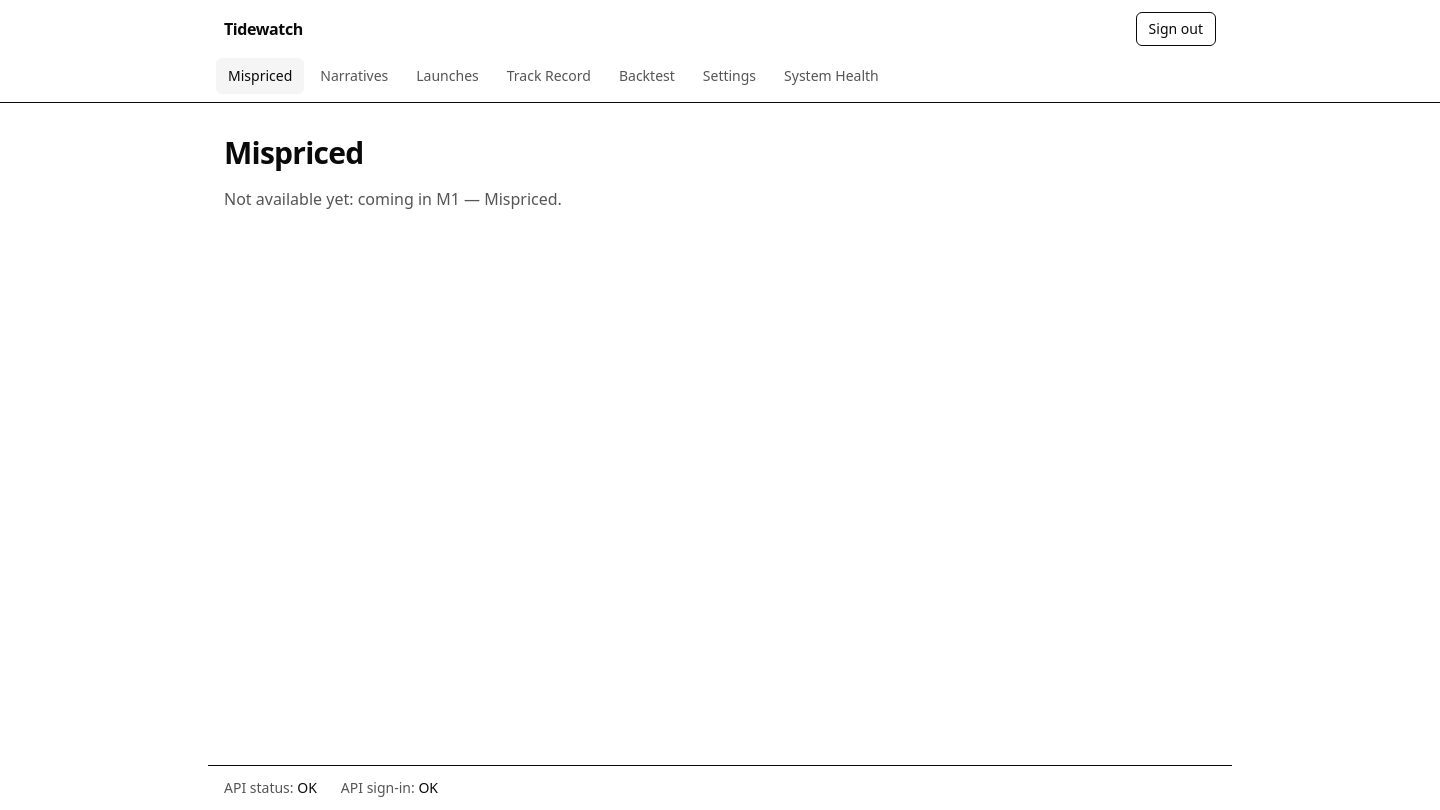
Test case: PER-11 dashboard shell › AC2 + AC3: "Launches" opens at /launches with its title (and "coming in" until built)
Click the link "Launches" at (448, 76), box left=416, top=66, right=479, bottom=85
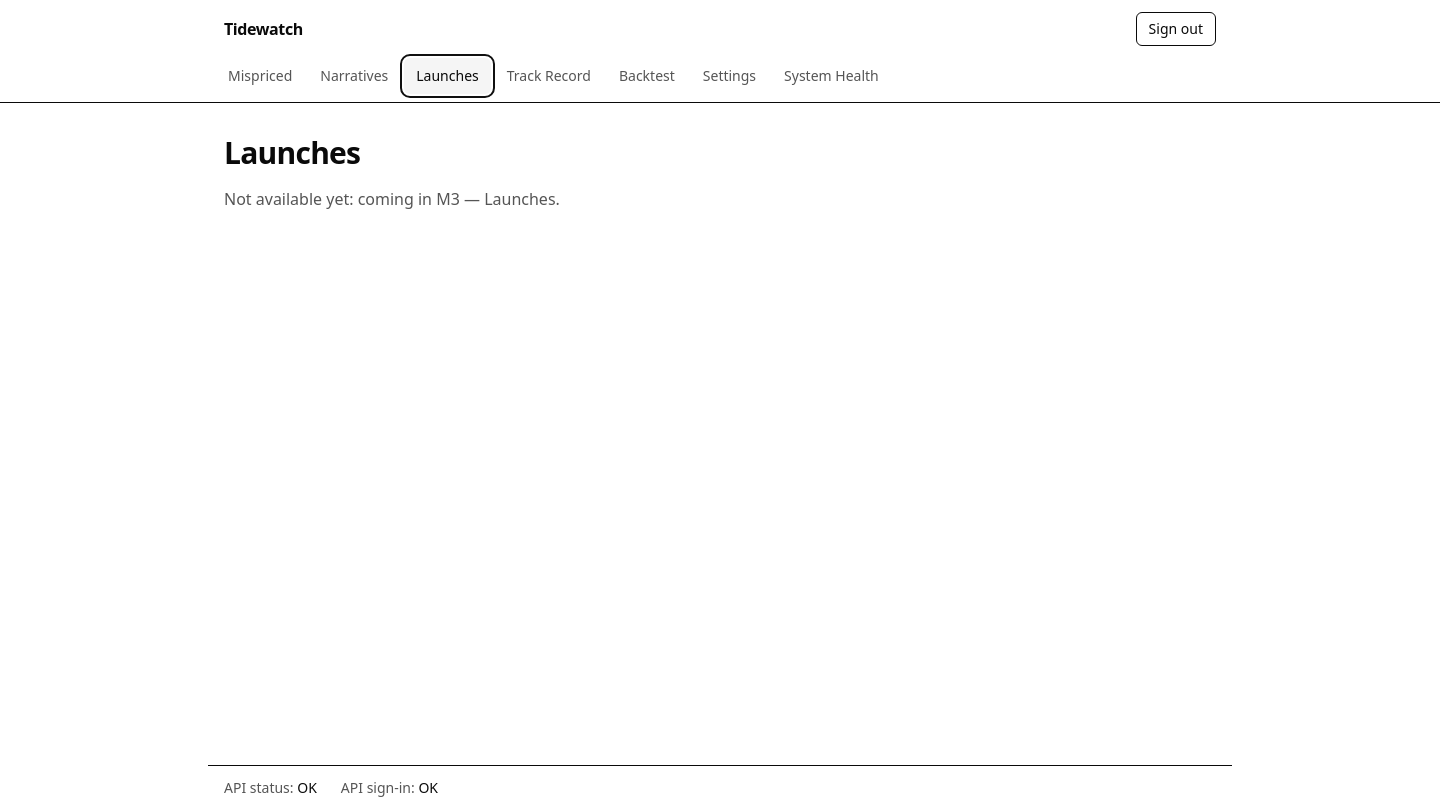
Check: the heading "Launches" is shown, box left=224, top=132, right=360, bottom=173
